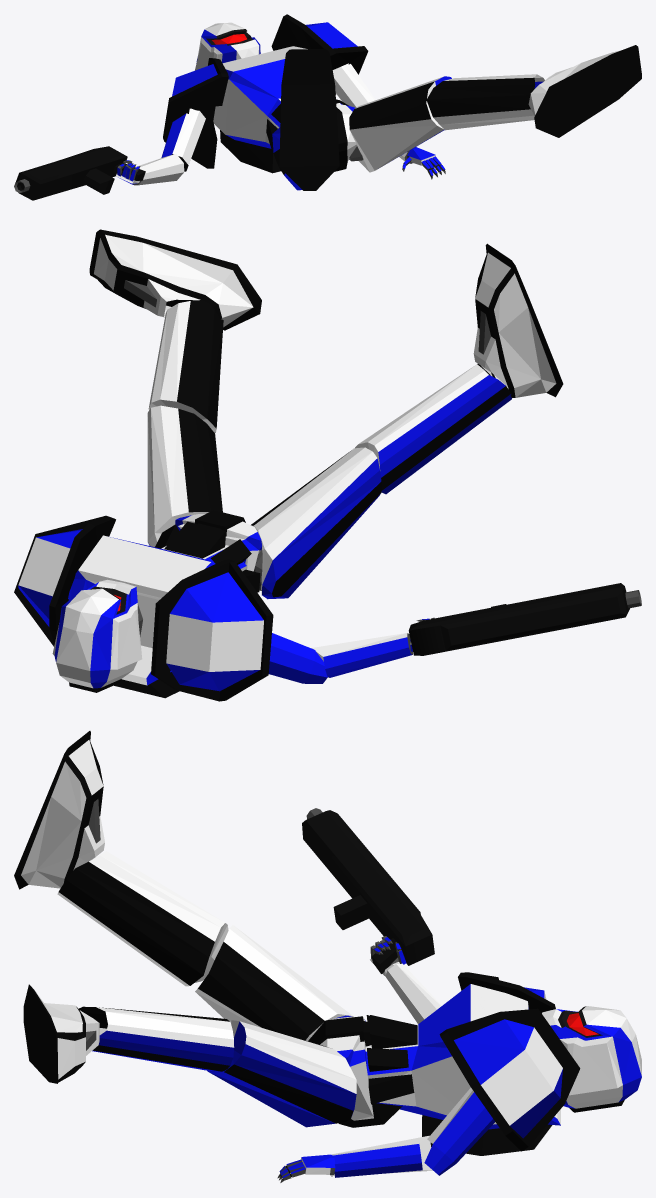
The model's file is robots_000043.obj.
The picture shows the model from 3 angles, top to bottom: view 1: azimuth 30°, elevation 25°; view 2: azimuth 150°, elevation 25°; view 3: azimuth 270°, elevation 25°; orthographic projection. The views are drawn at different scales.
Parts seen in each view (by area): view 1: R_Foot_Cube, Chest_plate_Cube.004, R_Foot.002_Cube.035, R_Thigh.002_Cube.027, R_Shin.002_Cube.029, Cube_Cube.001, Cube.002_Cube.059, Cube_Cube.021, Head_base_Cube.022, R_Arm_Cube.002, L_Arm_Cube.014, R_Forearm_Cube.008 (+3 smaller); view 2: Cube.002_Cube.059, R_Thigh_Cube.005, Chest_plate_Cube.004, R_Foot.002_Cube.035, R_Foot_Cube, Cube_Cube.001, R_Shin_Cube.007, R_Thigh.002_Cube.027, Head_base_Cube.022, R_Shin.002_Cube.029, Cube_Cube.021, R_Forearm_Cube.008 (+2 smaller); view 3: Chest_plate_Cube.004, Cube_Cube.021, R_Shin_Cube.007, R_Thigh.002_Cube.027, R_Thigh_Cube.005, Cube_Cube.001, R_Foot_Cube, Head_base_Cube.022, R_Shin.002_Cube.029, R_Foot.002_Cube.035, Pelvis_Cube.006, L_Arm_Cube.014 (+3 smaller).
Boxes of the visible parts, x1,y1,x2,y2 form: R_Foot_Cube: (279,49,339,190); Chest_plate_Cube.004: (213,46,348,173); R_Foot.002_Cube.035: (528,45,641,137); R_Thigh.002_Cube.027: (349,76,451,172); R_Shin.002_Cube.029: (426,74,544,130); Cube_Cube.001: (14,146,145,200); Cube.002_Cube.059: (163,58,228,168); Cube_Cube.021: (271,14,368,94); Head_base_Cube.022: (195,22,260,70); R_Arm_Cube.002: (161,108,205,171); L_Arm_Cube.014: (332,63,375,107); R_Forearm_Cube.008: (133,154,184,185); Cube.002_Cube.059: (151,559,273,701); R_Thigh_Cube.005: (251,447,381,599); Chest_plate_Cube.004: (68,521,260,698); R_Foot.002_Cube.035: (89,229,261,330); R_Foot_Cube: (473,243,563,397); Cube_Cube.001: (408,583,641,655); R_Shin_Cube.007: (355,364,511,494); R_Thigh.002_Cube.027: (147,405,222,547); Head_base_Cube.022: (52,579,142,692); R_Shin.002_Cube.029: (148,300,223,432); Cube_Cube.021: (14,515,115,646); R_Forearm_Cube.008: (311,633,412,677); Chest_plate_Cube.004: (365,984,560,1155); Cube_Cube.021: (439,1008,580,1151); R_Shin_Cube.007: (57,851,228,986); R_Thigh.002_Cube.027: (207,1020,356,1127); R_Thigh_Cube.005: (195,925,353,1040); Cube_Cube.001: (302,808,434,973); R_Foot_Cube: (14,731,104,889); Head_base_Cube.022: (542,1006,641,1112); R_Shin.002_Cube.029: (78,1006,234,1071); R_Foot.002_Cube.035: (23,984,99,1083); Pelvis_Cube.006: (308,1015,402,1127); L_Arm_Cube.014: (424,1087,494,1175).
Bounding box in the file's own units: 3.62 × 1.63 × 2.84.
